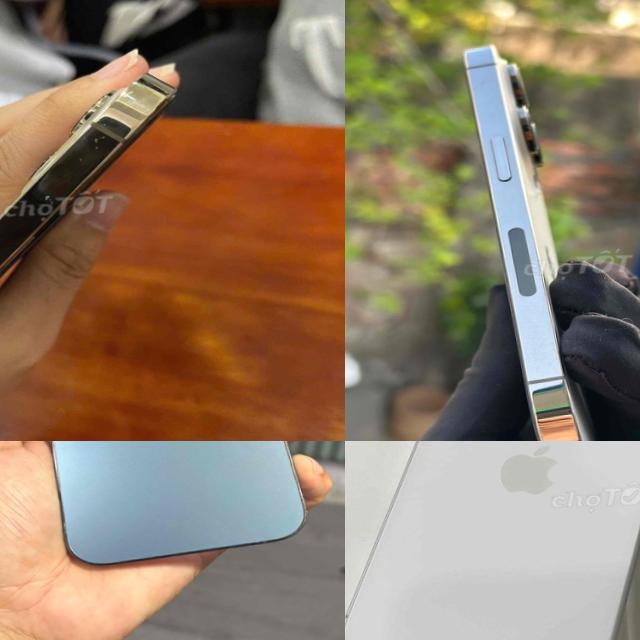gen_12_13: (0, 69, 175, 384), (20, 441, 307, 571)
gen_14: (451, 31, 633, 441)
gen_17: (345, 441, 640, 640)
